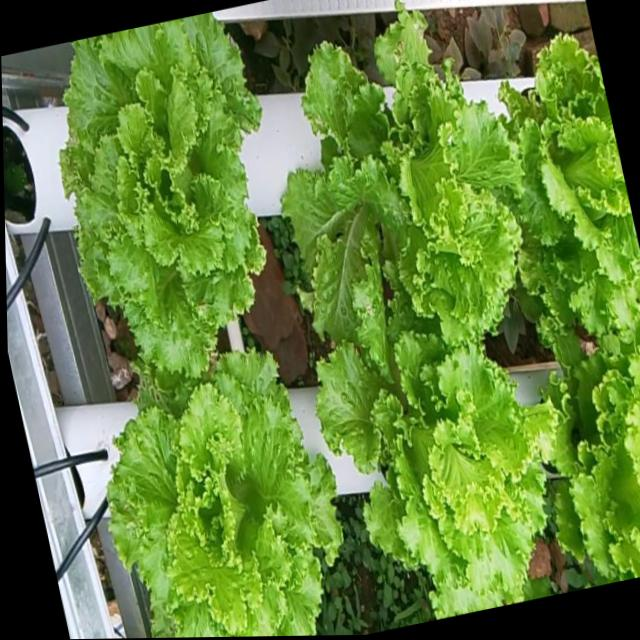Mature: (284, 0, 526, 332), (64, 11, 270, 380), (320, 299, 553, 615), (113, 342, 347, 638), (504, 21, 640, 322), (555, 326, 640, 582)
